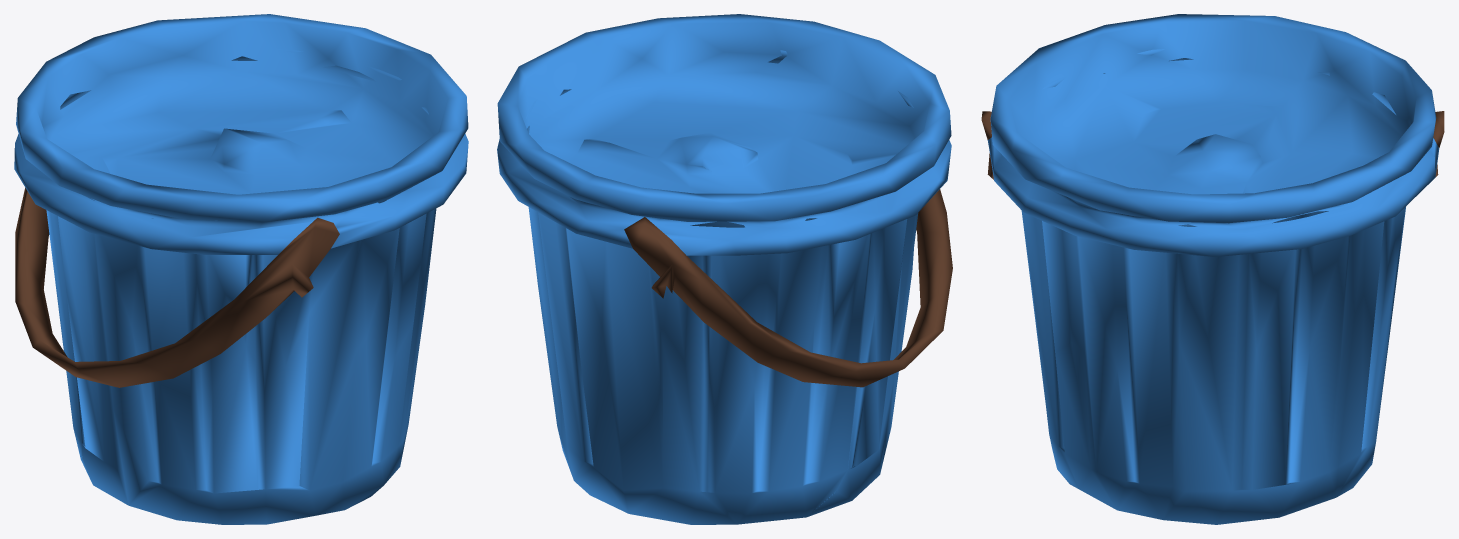
The model's file is SM_prop_bucket.fbx.
3 renders of one model, left to right at view 1: azimuth 30°, elevation 25°; view 2: azimuth 150°, elevation 25°; view 3: azimuth 270°, elevation 25°, orthographic.
Parts seen in each view (by area): view 1: SM_prop_bucket; view 2: SM_prop_bucket; view 3: SM_prop_bucket.
Boxes of the visible parts, box(x1,y1,x2,y2) form: SM_prop_bucket: box(14, 14, 468, 524); SM_prop_bucket: box(497, 14, 952, 524); SM_prop_bucket: box(981, 14, 1444, 524).
Bounding box in the file's own units: 53.34 × 45 × 53.94.
Materials: 1 (1 with a texture image).
